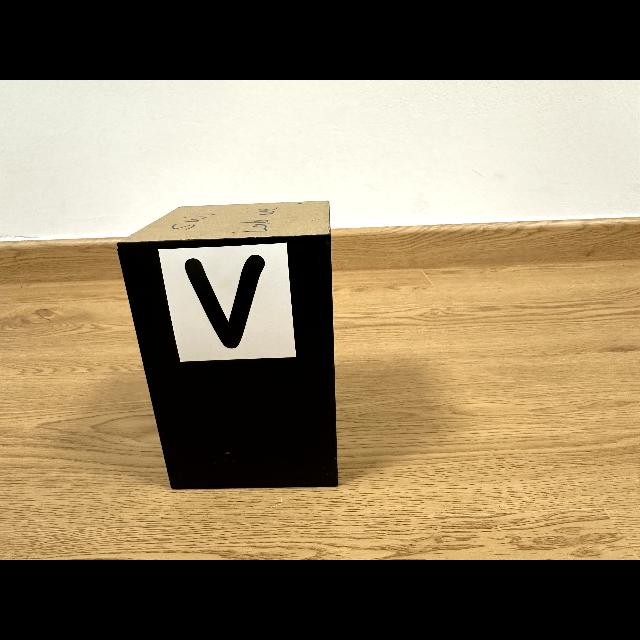V: (185, 255, 265, 349)
